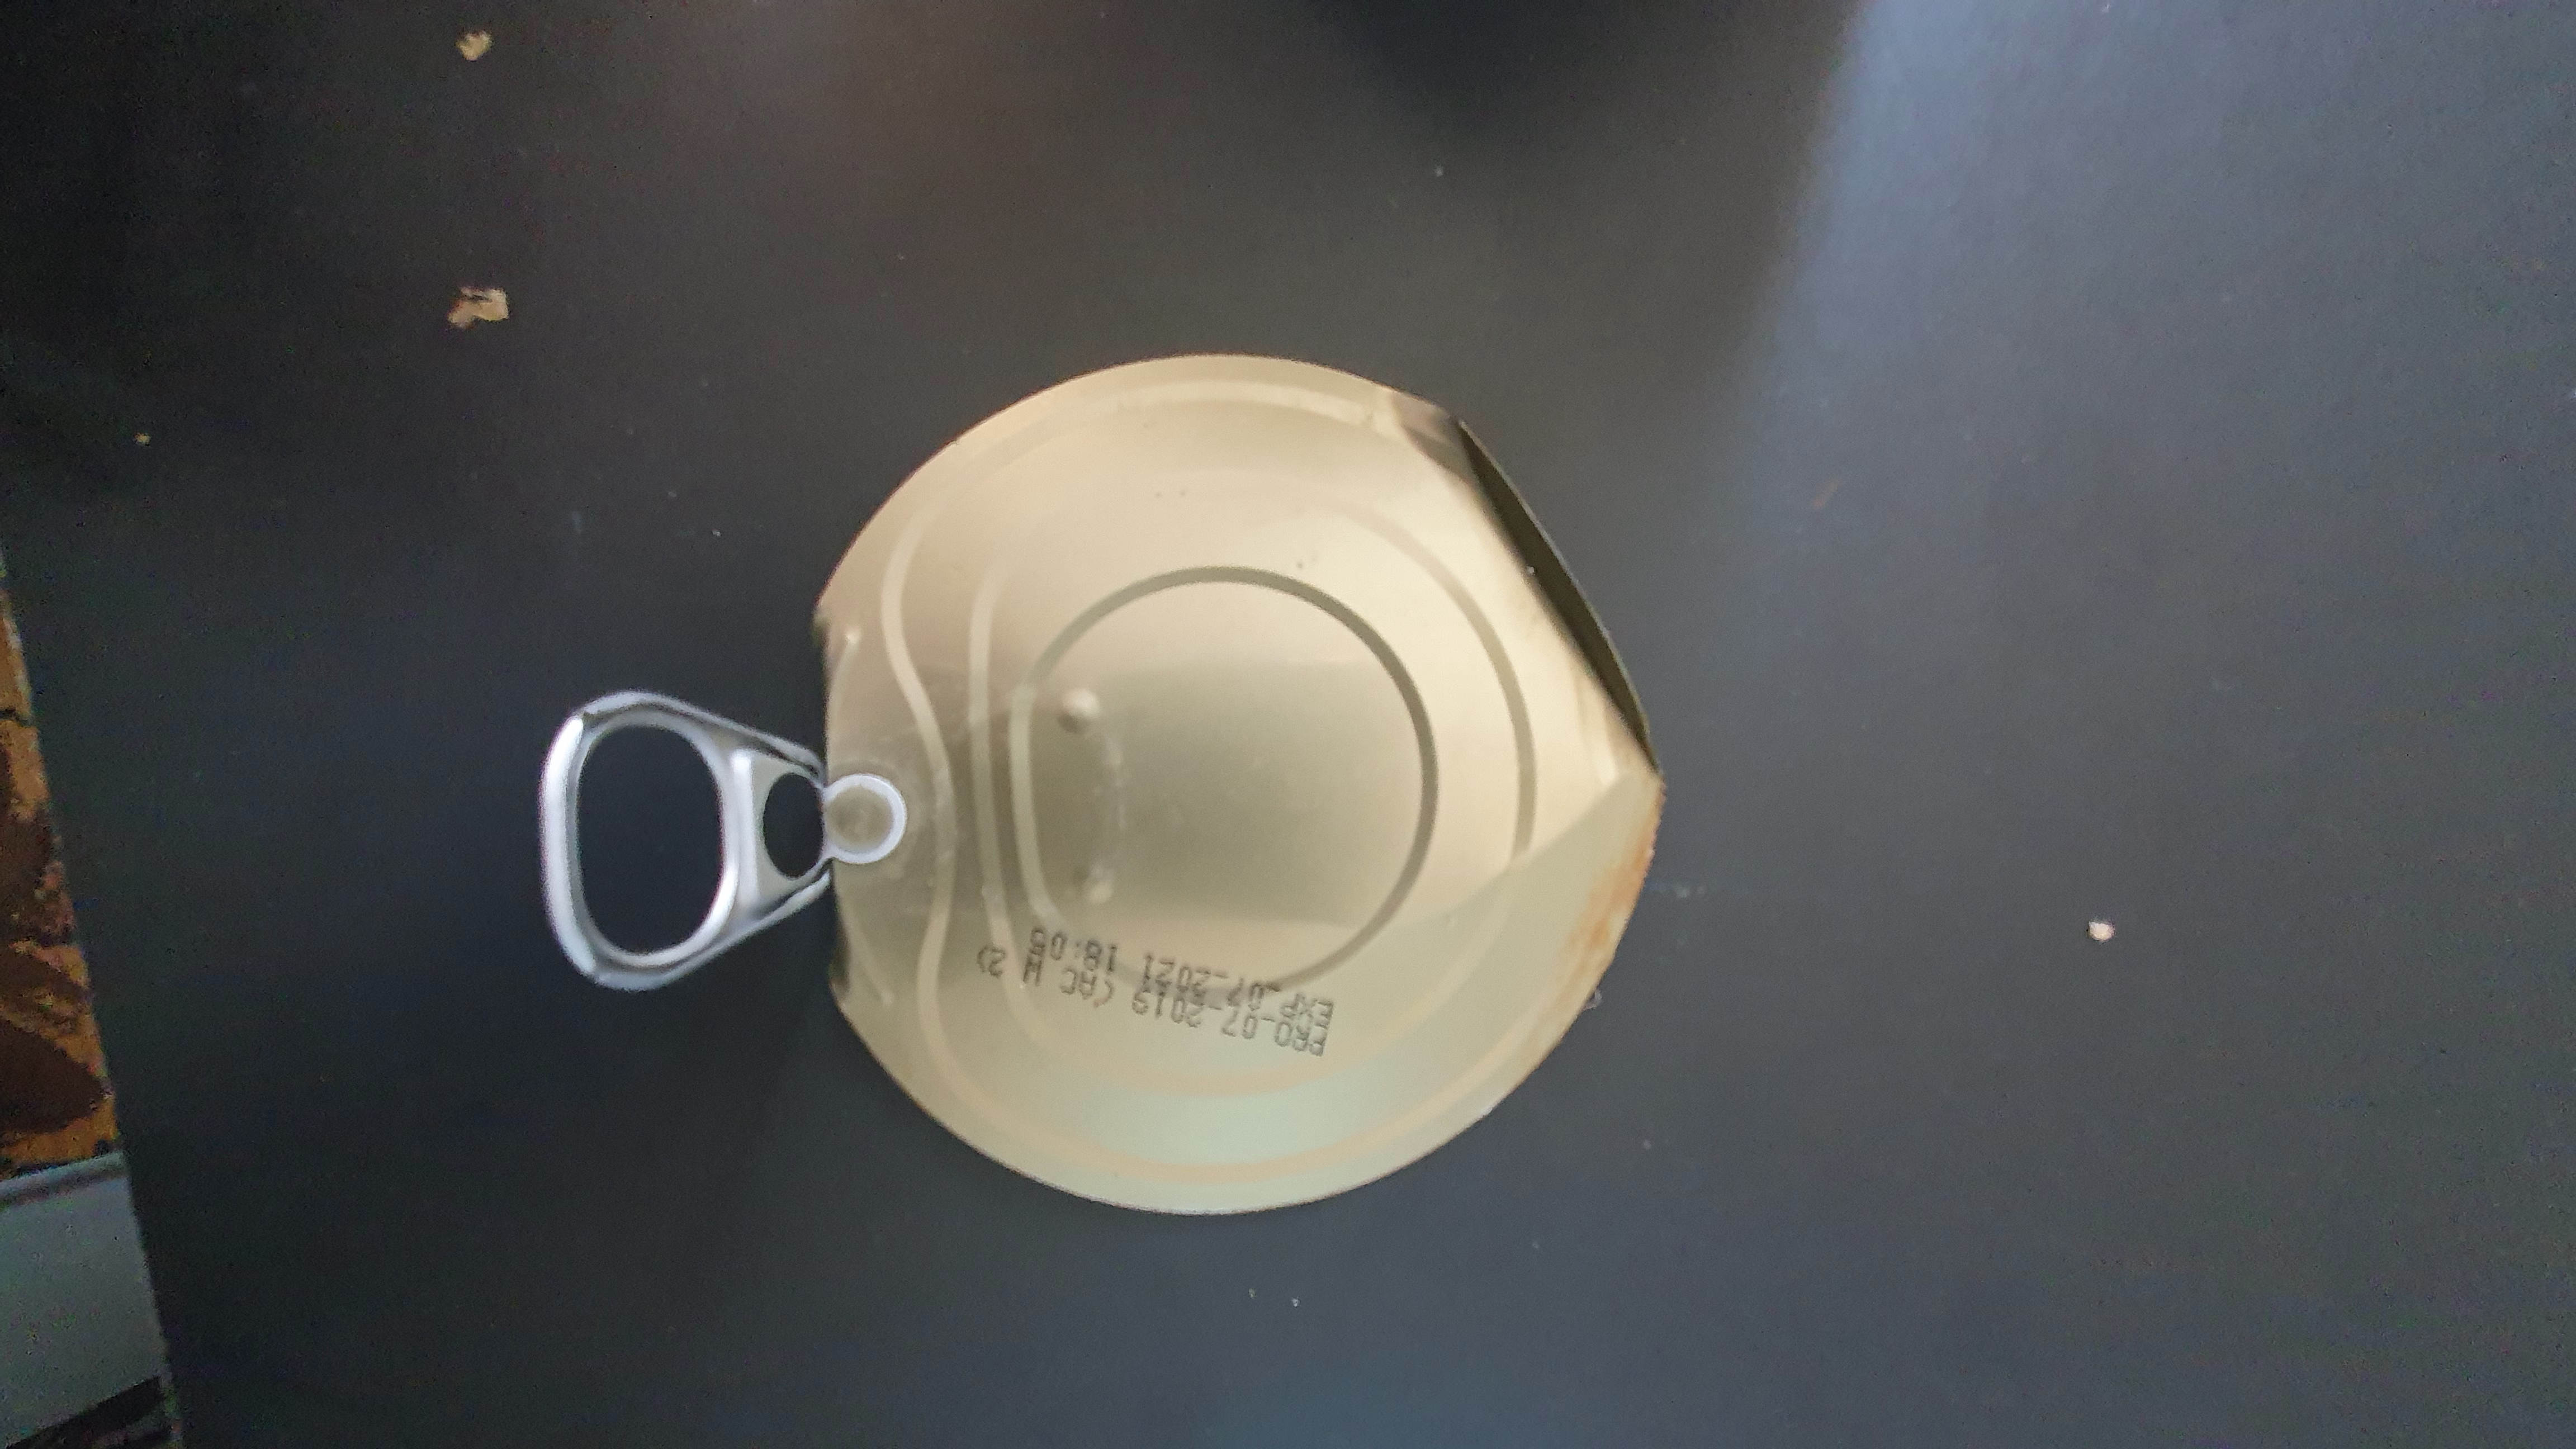metal: (499, 295, 1725, 1269)
